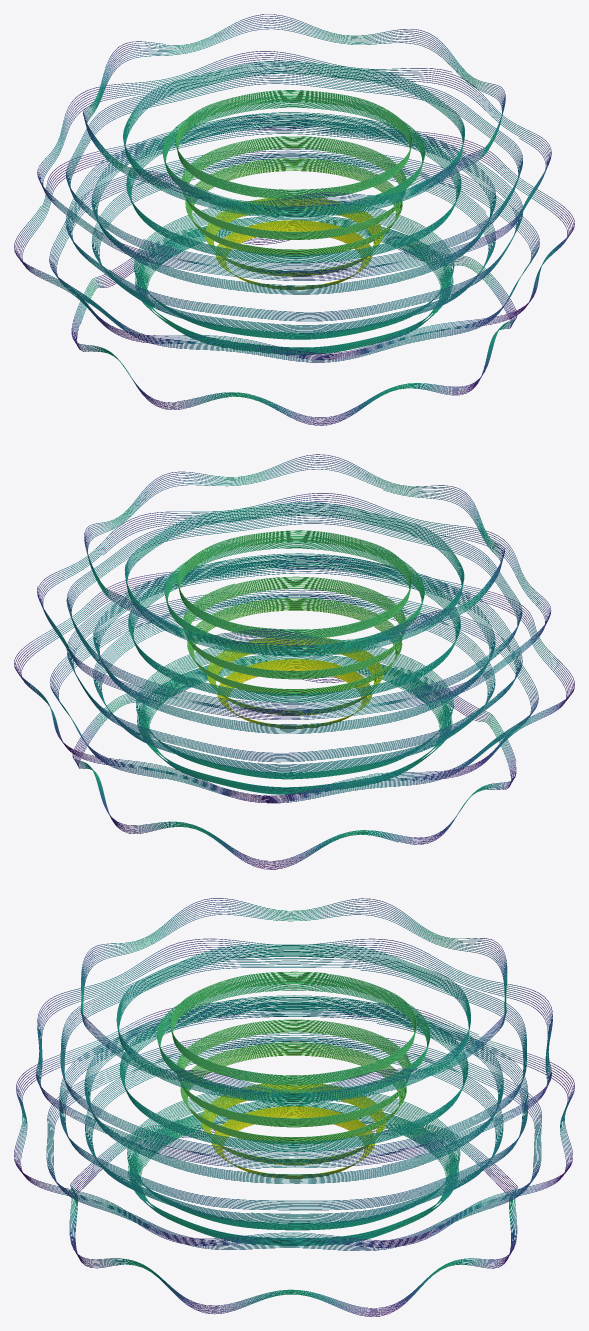
File: coil_4_field_lines.gltf
3 views of the same model, one above another, from view 1: azimuth 30°, elevation 25°; view 2: azimuth 150°, elevation 25°; view 3: azimuth 270°, elevation 25° (orthographic). The views are drawn at different scales.
Visible parts, largest first — view 1: Renderer Node; view 2: Renderer Node; view 3: Renderer Node.
Boxes of the visible parts, box(x1,y1,x2,y2) form: Renderer Node: box(14, 14, 574, 425); Renderer Node: box(14, 454, 574, 869); Renderer Node: box(14, 898, 574, 1316).
Bounding box in the file's own units: 1.07 × 0.5286 × 1.08.
1 material, 1 textured.
